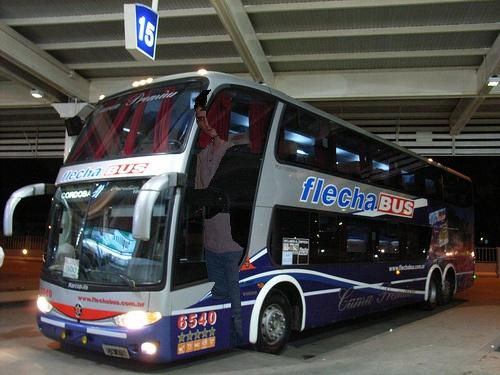tampered: (195, 90, 244, 346)
